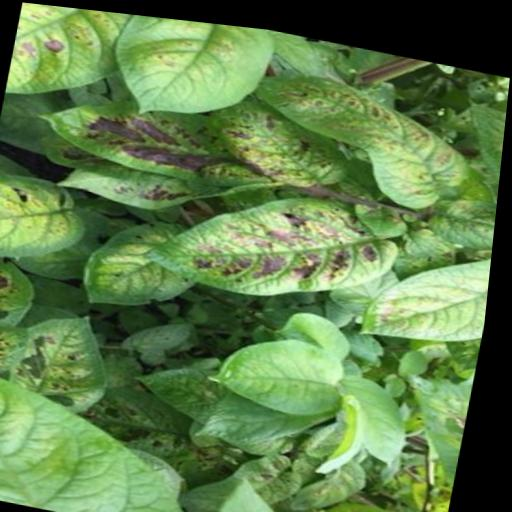Early Blight: (231, 58, 488, 210), (147, 170, 412, 314), (40, 84, 279, 191), (195, 82, 364, 191), (3, 298, 122, 422), (0, 254, 44, 342)
